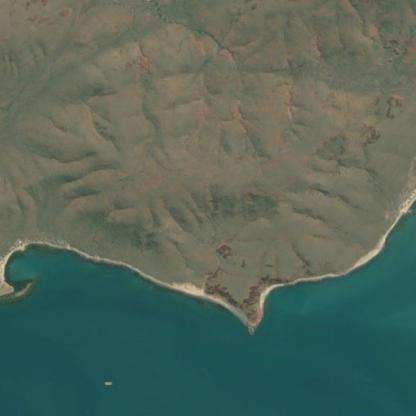ship: (103, 381, 112, 385)
